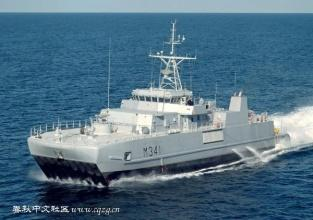warship: (29, 37, 295, 179)
